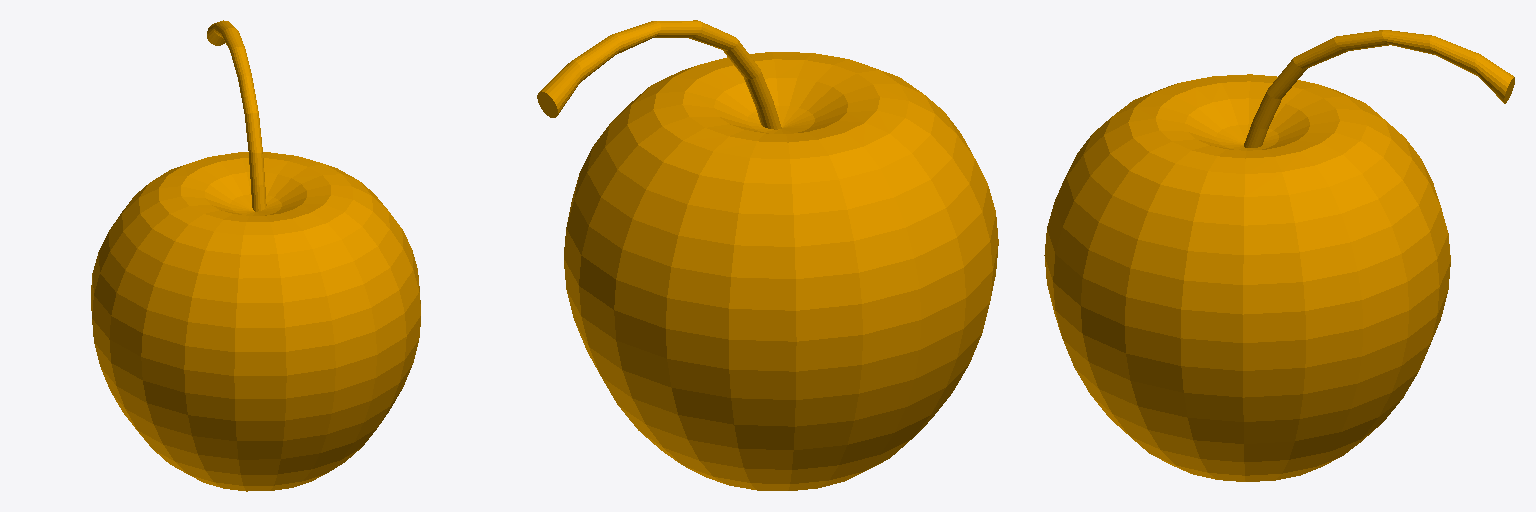
The robot description file, URDF, robot "mesh_object":
<?xml version="1.0" ?>
<robot name="mesh_object">
  <link name="base">
    <visual>
      <geometry>
        <mesh filename="cherry_4.obj" scale="1 1 1"/>
      </geometry>
    </visual>
    <collision>
      <geometry>
        <mesh filename="cherry_4.obj" scale="1 1 1"/>
      </geometry>
    </collision>
    <inertial>
      <origin xyz="-0.003775 -0.002006 0.061694" rpy="0 0 0"/>
      <mass value="0.5"/>
      <inertia ixx="0.01" iyy="0.01" izz="0.01" ixy="0" ixz="0" iyz="0"/>
    </inertial>
  </link>
</robot>

--- Render facts (derived) ---
Views: 3 orthographic renders of the robot side by side, from view 1: azimuth 30°, elevation 25°; view 2: azimuth 150°, elevation 25°; view 3: azimuth 270°, elevation 25°.
Robot: mesh_object — 1 links, 0 joints (none); root link base; default pose: every joint at zero.
Visible links, largest first — view 1: base; view 2: base; view 3: base.
Boxes of the visible links, box(x1,y1,x2,y2) form: base: box(91, 20, 420, 491); base: box(537, 20, 998, 490); base: box(1044, 30, 1514, 481).
Size in the robot's own frame: 0.0986 by 0.1155 by 0.1234 metres.
Meshes: 1 distinct files referenced, 1 mesh visuals loaded (1 OBJ).
